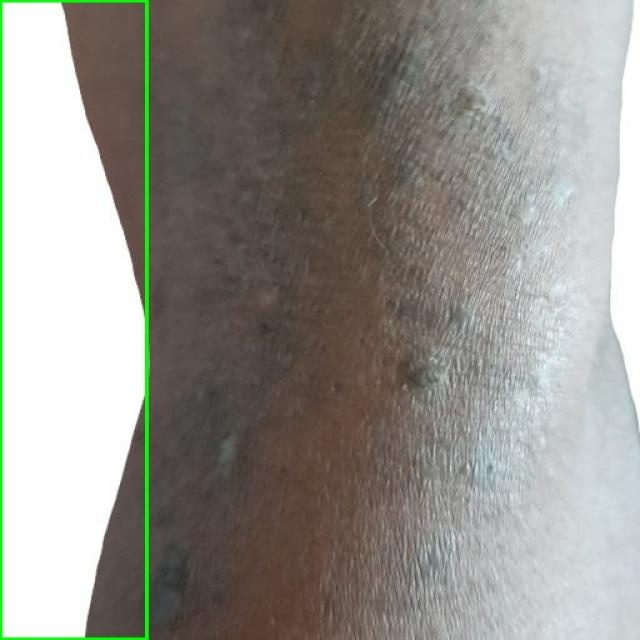Contact Dermatitis: (0, 0, 146, 639)
